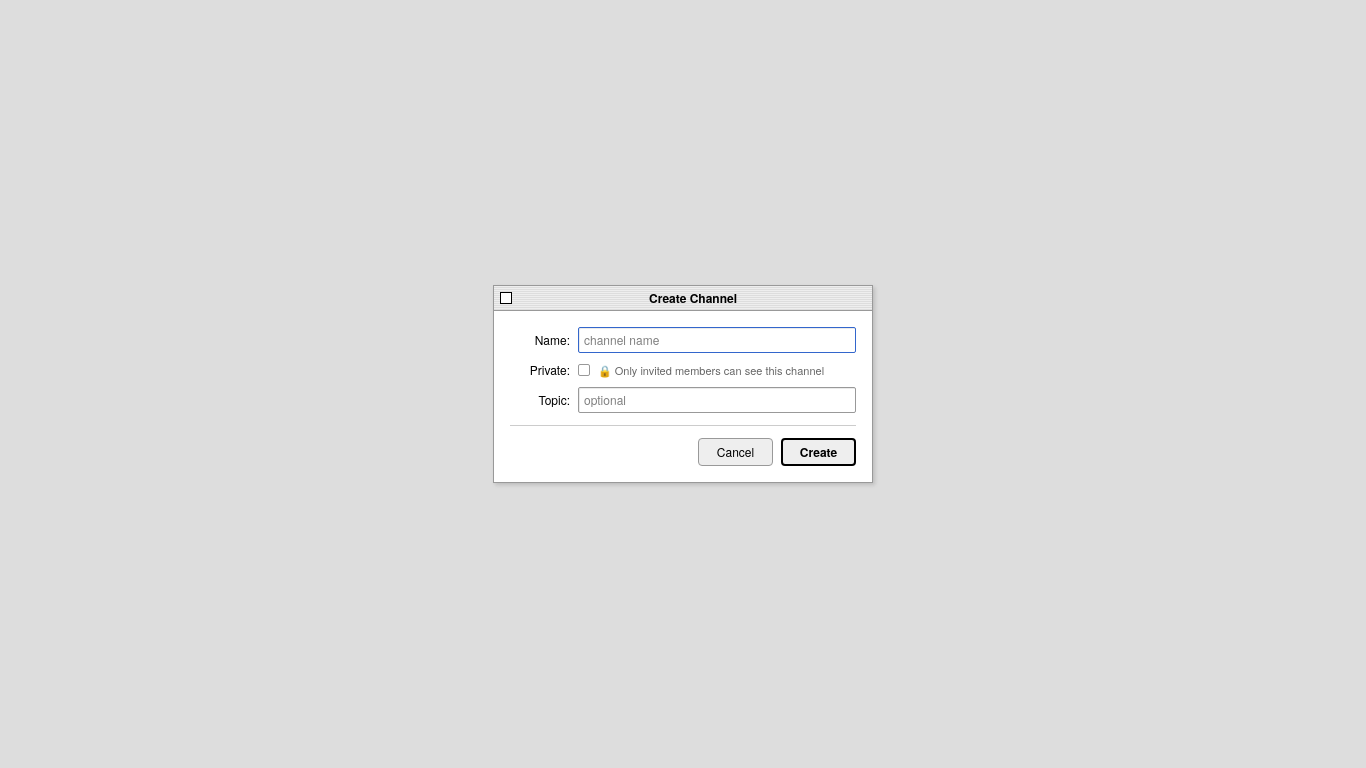
Test: CreateChannelModal › shows the API error and stays open when channel creation fails
This screenshot has width=1366, height=768.
Type "Roadmap" into the field labelled "Name:" at [717, 340], box [578, 327, 856, 353]
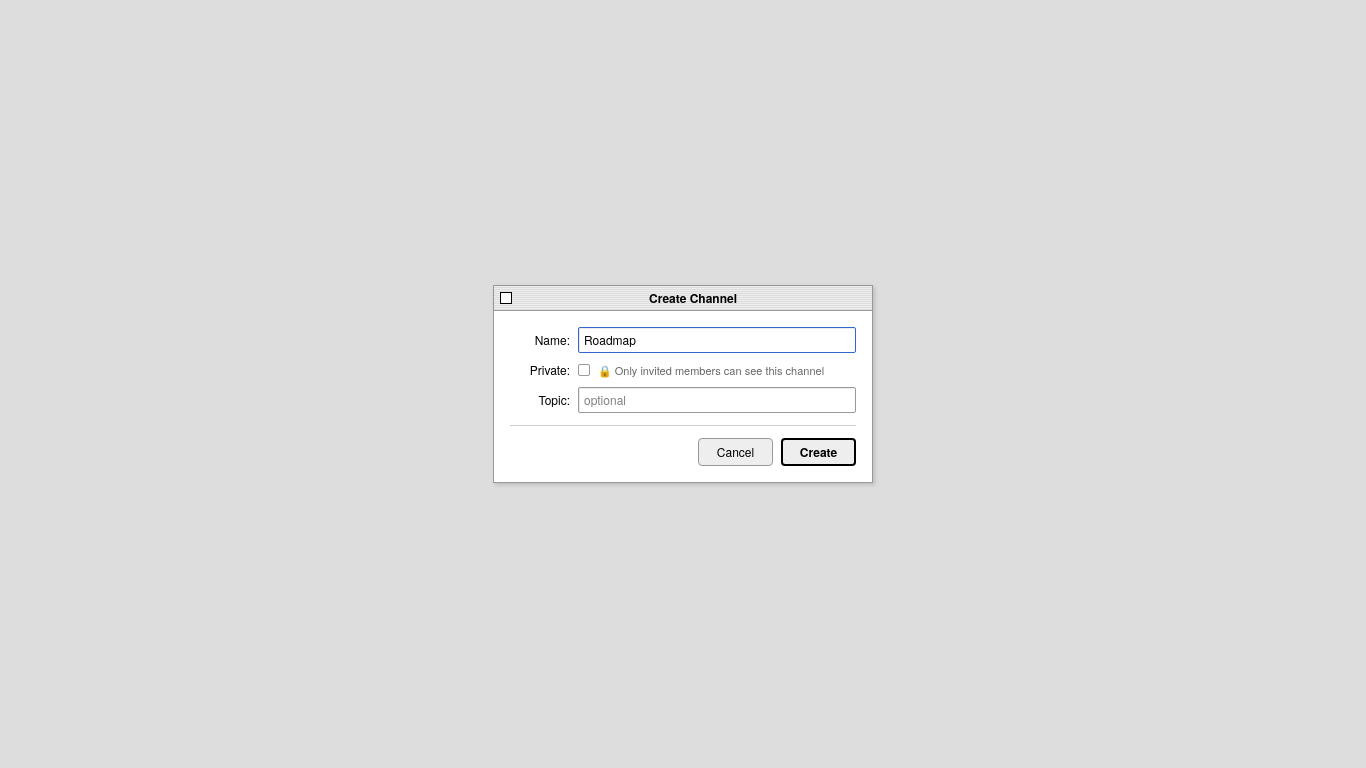
Click the button "Create" at [818, 452], box [781, 438, 856, 466]
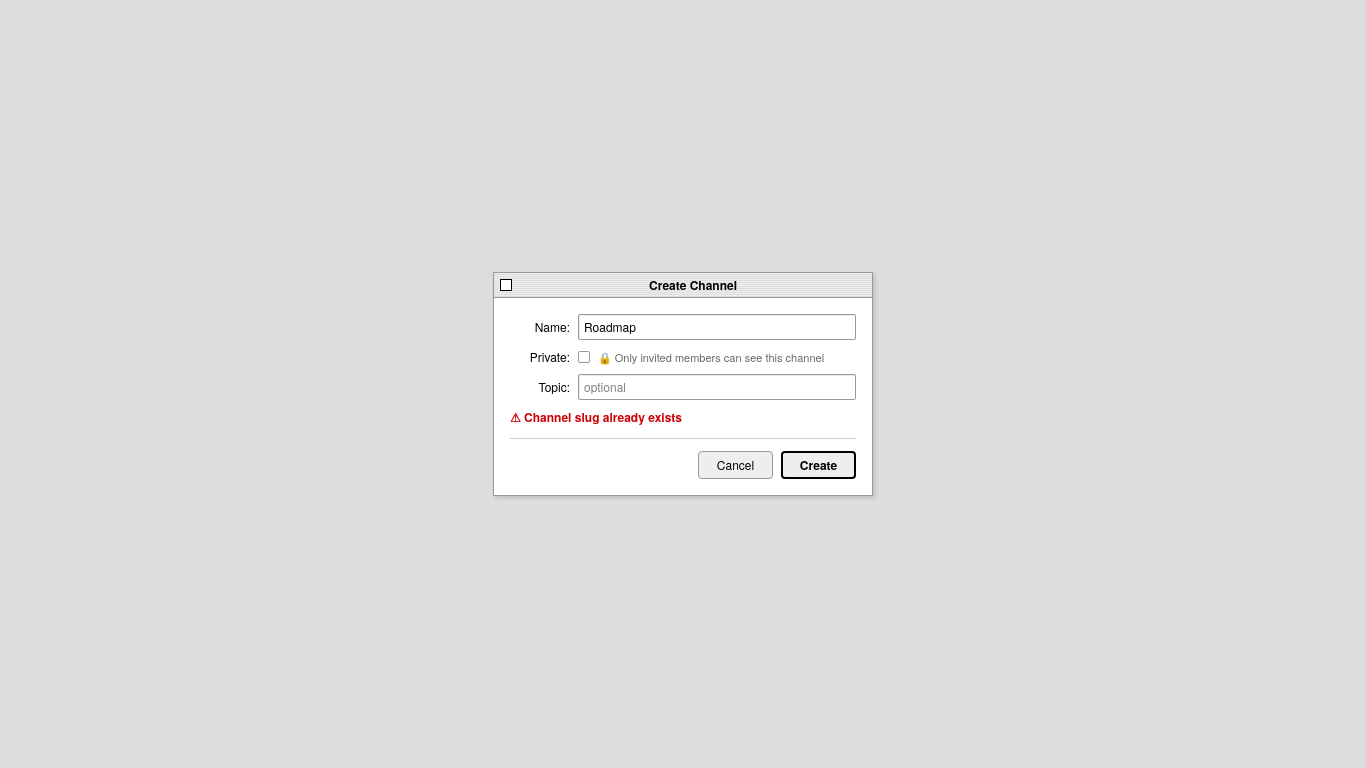
Expected: the message shows "Channel slug already exists", [524, 408, 682, 426]
